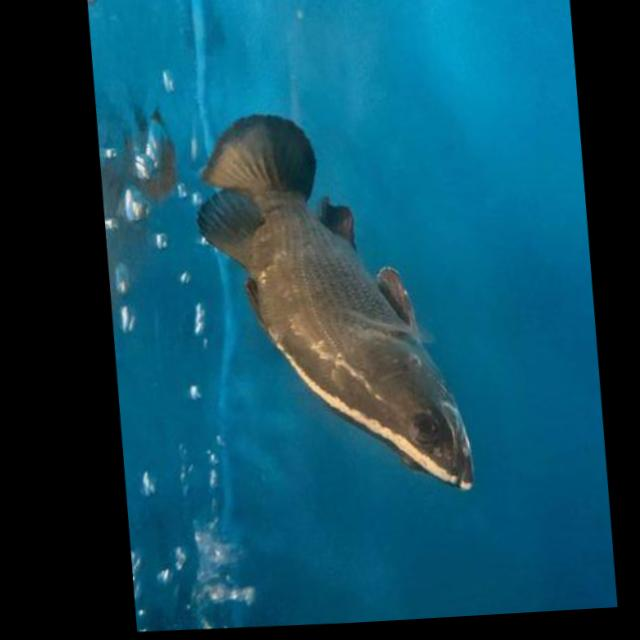Seabass: (180, 100, 482, 504)
